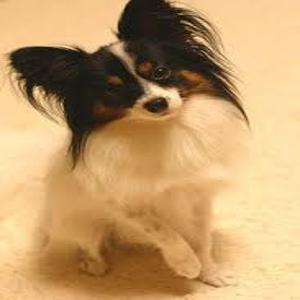yell: (9, 0, 249, 287)
